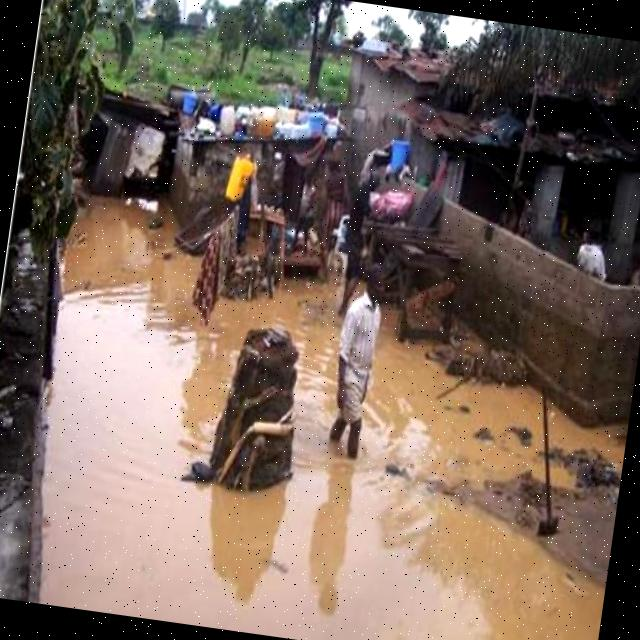civilian: (299, 239, 408, 488)
